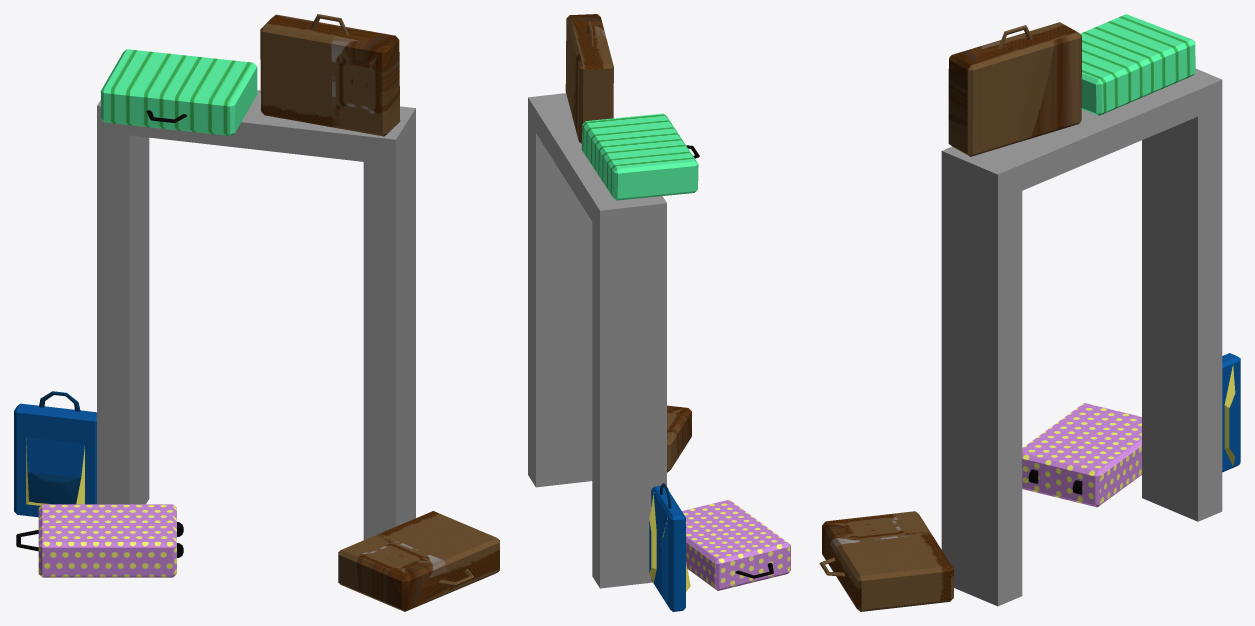
Rendered from SM_Hub_Doorway_02.fbx.
3 renders of one model, left to right at view 1: azimuth 30°, elevation 25°; view 2: azimuth 150°, elevation 25°; view 3: azimuth 270°, elevation 25°, orthographic. The views are drawn at different scales.
Visible parts, largest first — view 1: SM_Hub_Doorway_02, pasted__SM_Baggage_Bag_01, pasted__pasted__SM_Baggage_Bag_01, SM_Baggage_Bag_01, SM_Baggage_Bag_02, SM_Baggage_Bag_03; view 2: SM_Hub_Doorway_02, pasted__pasted__SM_Baggage_Bag_01, SM_Baggage_Bag_02, pasted__SM_Baggage_Bag_01, SM_Baggage_Bag_03, SM_Baggage_Bag_01; view 3: SM_Hub_Doorway_02, pasted__SM_Baggage_Bag_01, SM_Baggage_Bag_01, SM_Baggage_Bag_02, pasted__pasted__SM_Baggage_Bag_01, SM_Baggage_Bag_03.
Boxes of the visible parts, bbox=[...] form: SM_Hub_Doorway_02: bbox=[97, 90, 415, 539]; pasted__SM_Baggage_Bag_01: bbox=[260, 14, 400, 136]; pasted__pasted__SM_Baggage_Bag_01: bbox=[100, 49, 257, 135]; SM_Baggage_Bag_01: bbox=[338, 511, 499, 611]; SM_Baggage_Bag_02: bbox=[16, 504, 183, 577]; SM_Baggage_Bag_03: bbox=[14, 391, 96, 517]; SM_Hub_Doorway_02: bbox=[528, 93, 666, 588]; pasted__pasted__SM_Baggage_Bag_01: bbox=[581, 113, 699, 200]; SM_Baggage_Bag_02: bbox=[682, 499, 790, 590]; pasted__SM_Baggage_Bag_01: bbox=[565, 14, 613, 143]; SM_Baggage_Bag_03: bbox=[649, 483, 690, 611]; SM_Baggage_Bag_01: bbox=[667, 405, 691, 472]; SM_Hub_Doorway_02: bbox=[941, 68, 1222, 606]; pasted__SM_Baggage_Bag_01: bbox=[948, 22, 1081, 156]; SM_Baggage_Bag_01: bbox=[819, 511, 953, 611]; SM_Baggage_Bag_02: bbox=[1022, 403, 1141, 507]; pasted__pasted__SM_Baggage_Bag_01: bbox=[1080, 14, 1195, 115]; SM_Baggage_Bag_03: bbox=[1222, 353, 1240, 472].
Bounding box in the file's own units: 2.64 × 3.75 × 2.65.
